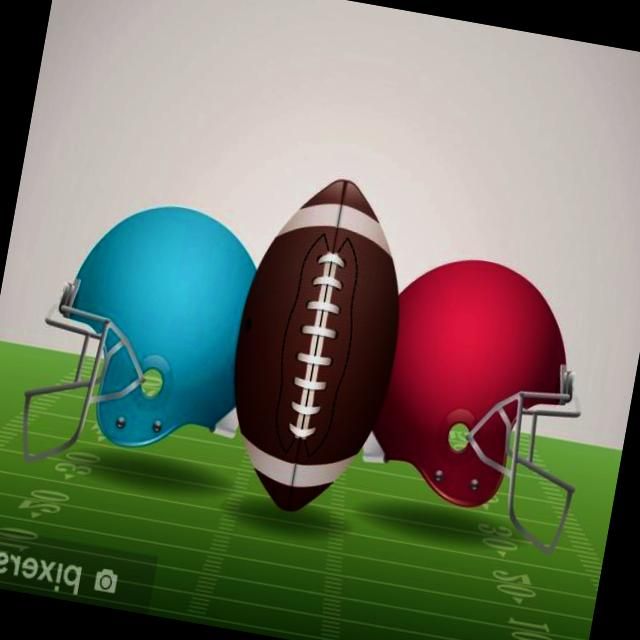ball: (202, 154, 424, 532)
